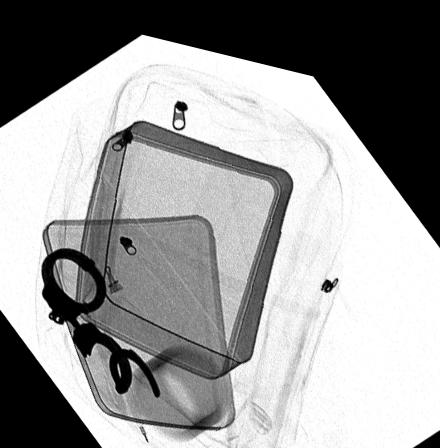HandCuffs: (39, 243, 163, 391)
